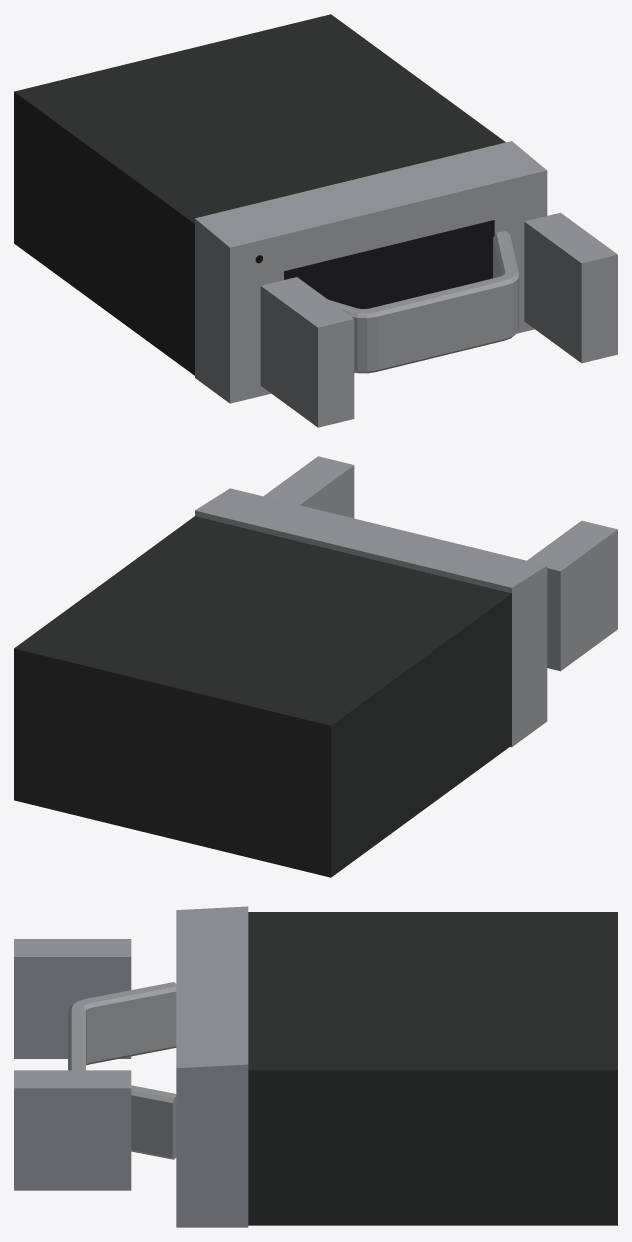
File: C9K-T1-FANTRAY.far.glb
3 views of the same model, one above another, from view 1: azimuth 30°, elevation 25°; view 2: azimuth 150°, elevation 25°; view 3: azimuth 270°, elevation 25° (orthographic). The views are drawn at different scales.
Parts seen in each view (by area): view 1: Body_far; view 2: Body_far; view 3: Body_far.
Boxes of the visible parts, left/top/right/bottom form: Body_far: left=14, top=14, right=617, bottom=427; Body_far: left=14, top=456, right=617, bottom=877; Body_far: left=14, top=906, right=617, bottom=1227.
Bounding box in the file's own units: 0.083 × 0.0399 × 0.134.
Materials: 2 (1 with a texture image).
